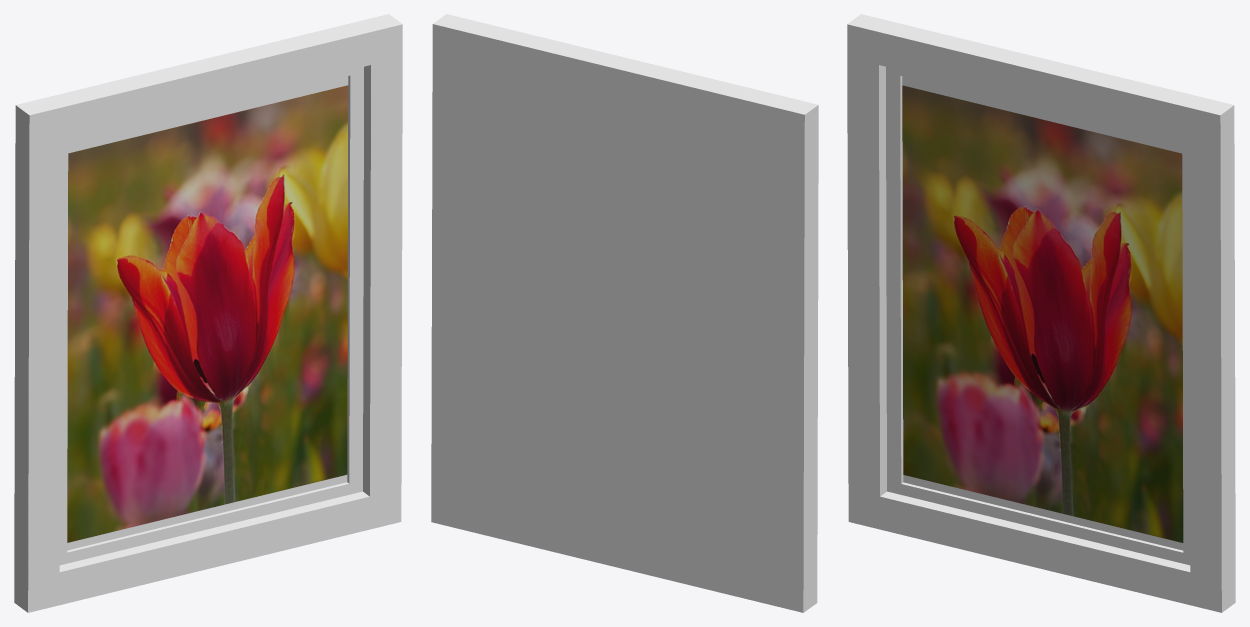
Rendered from Picture 4.FBX.
The picture shows the model from 3 angles, left to right: view 1: azimuth 30°, elevation 25°; view 2: azimuth 150°, elevation 25°; view 3: azimuth 330°, elevation 25°; orthographic projection.
Visible parts, largest first — view 1: picture 4; view 2: picture 4; view 3: picture 4.
Part boxes in pixels (box(x1,y1,x2,y2)): picture 4: box(14, 14, 402, 612); picture 4: box(431, 14, 818, 612); picture 4: box(847, 14, 1235, 612).
Bounding box in the file's own units: 53.24 × 67.97 × 3.79.
Materials: 1 (1 with a texture image).
